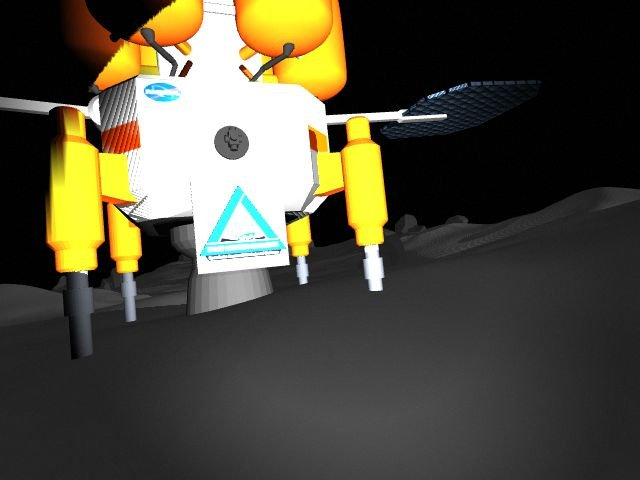basemarker: (198, 185, 287, 261)
